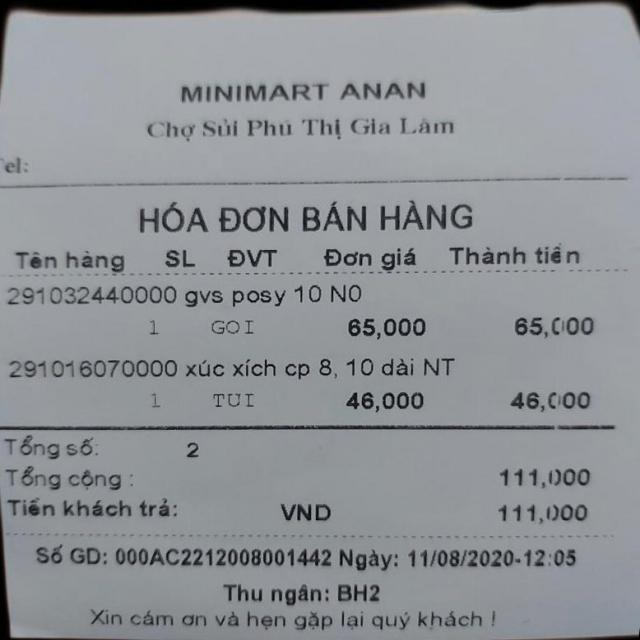Date: (406, 544, 517, 573)
Store_Name: (143, 54, 466, 111)
Total_Amount: (0, 463, 628, 497)
